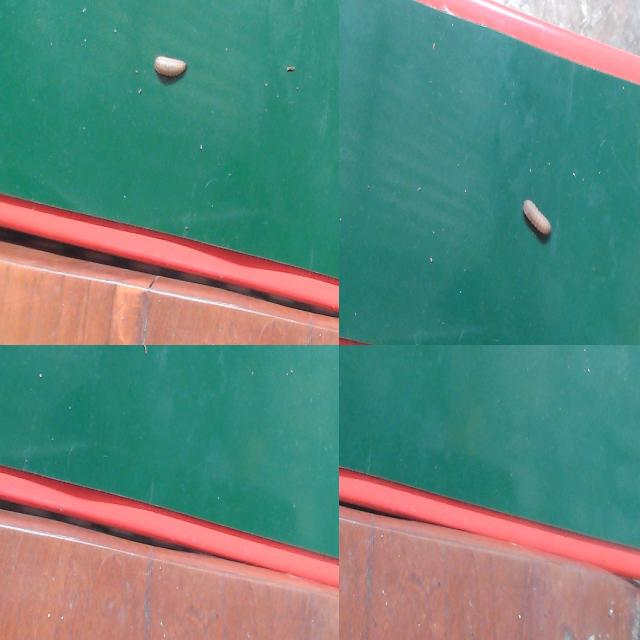Maggot: (522, 199, 555, 244), (153, 55, 188, 85)
